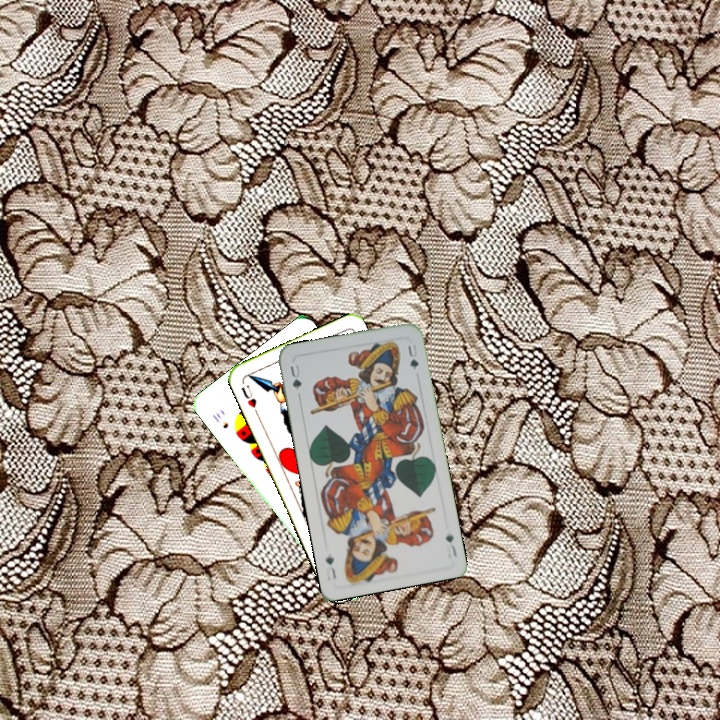GU: (286, 360, 304, 392), (441, 530, 459, 561)
HU: (237, 381, 259, 411)
S10: (208, 409, 231, 431)
